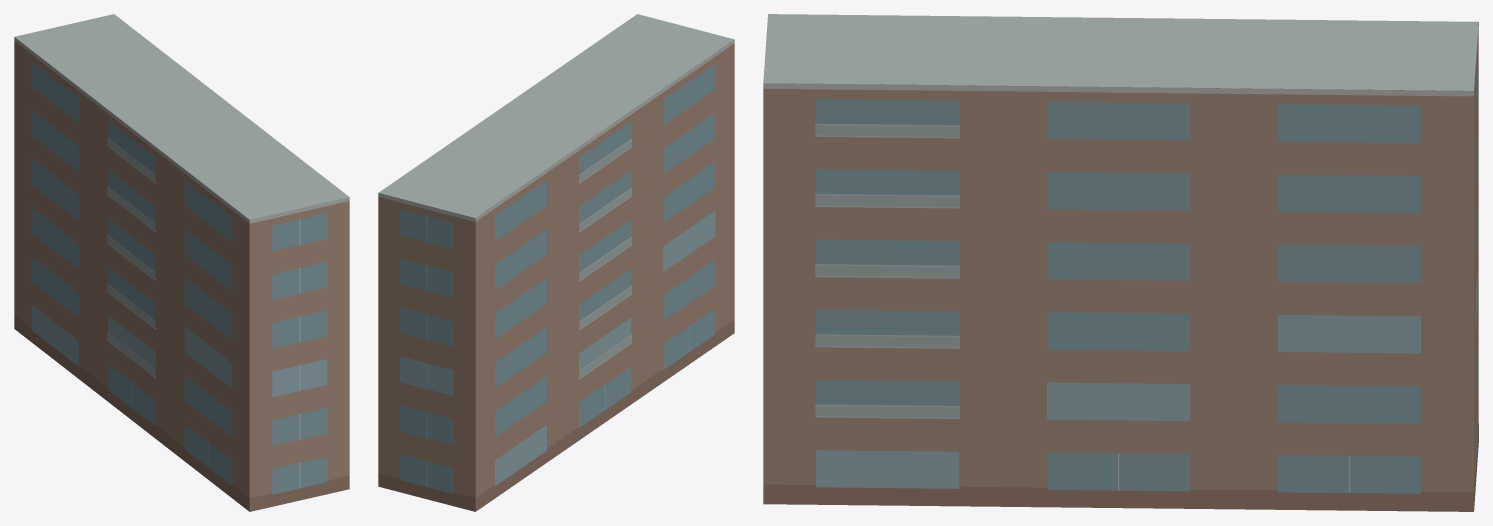
The model's file is survey-upis-32775336.glb.
3 views of the same model, side by side, from view 1: azimuth 30°, elevation 25°; view 2: azimuth 150°, elevation 25°; view 3: azimuth 270°, elevation 25° (orthographic). The views are drawn at different scales.
Visible parts, largest first — view 1: survey-upis-32775336.tmp; view 2: survey-upis-32775336.tmp; view 3: survey-upis-32775336.tmp.
Part boxes in pixels (<box>): survey-upis-32775336.tmp: <box>14,14,349,511</box>; survey-upis-32775336.tmp: <box>378,14,734,511</box>; survey-upis-32775336.tmp: <box>763,14,1478,511</box>.
Bounding box in the file's own units: 7.18 × 18.3 × 28.19.
